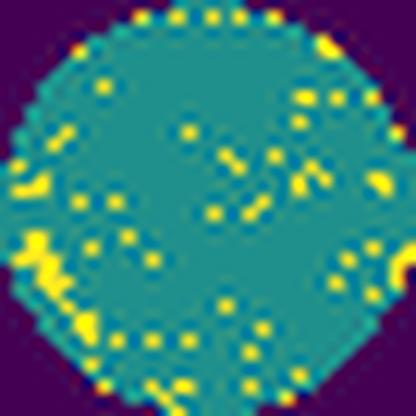Loc: (18, 228, 102, 346)
